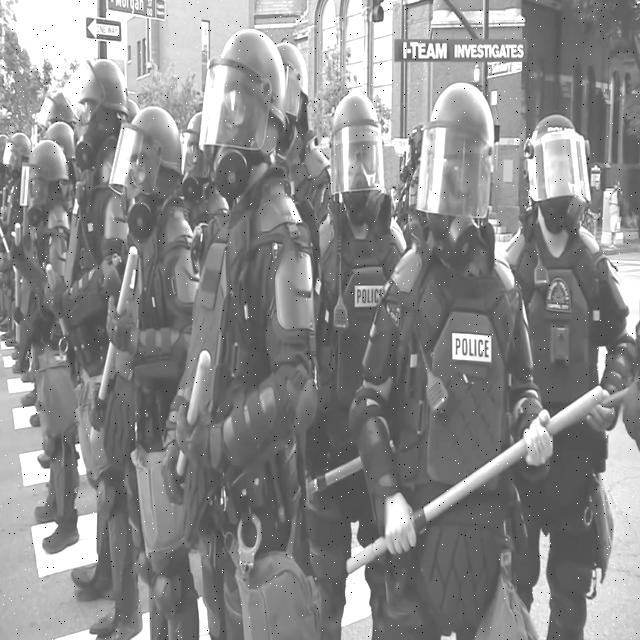police: (369, 61, 548, 640), (184, 11, 313, 640), (508, 100, 638, 640), (94, 73, 198, 640), (49, 27, 144, 640), (316, 63, 404, 640), (0, 116, 82, 575)
